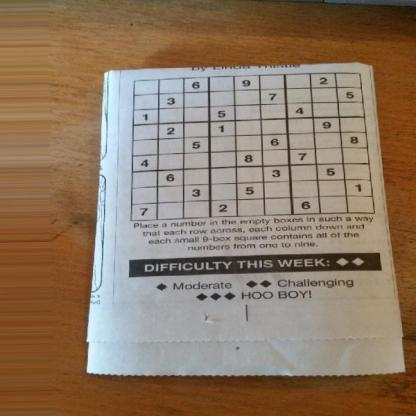sudoku: (128, 70, 380, 224)
